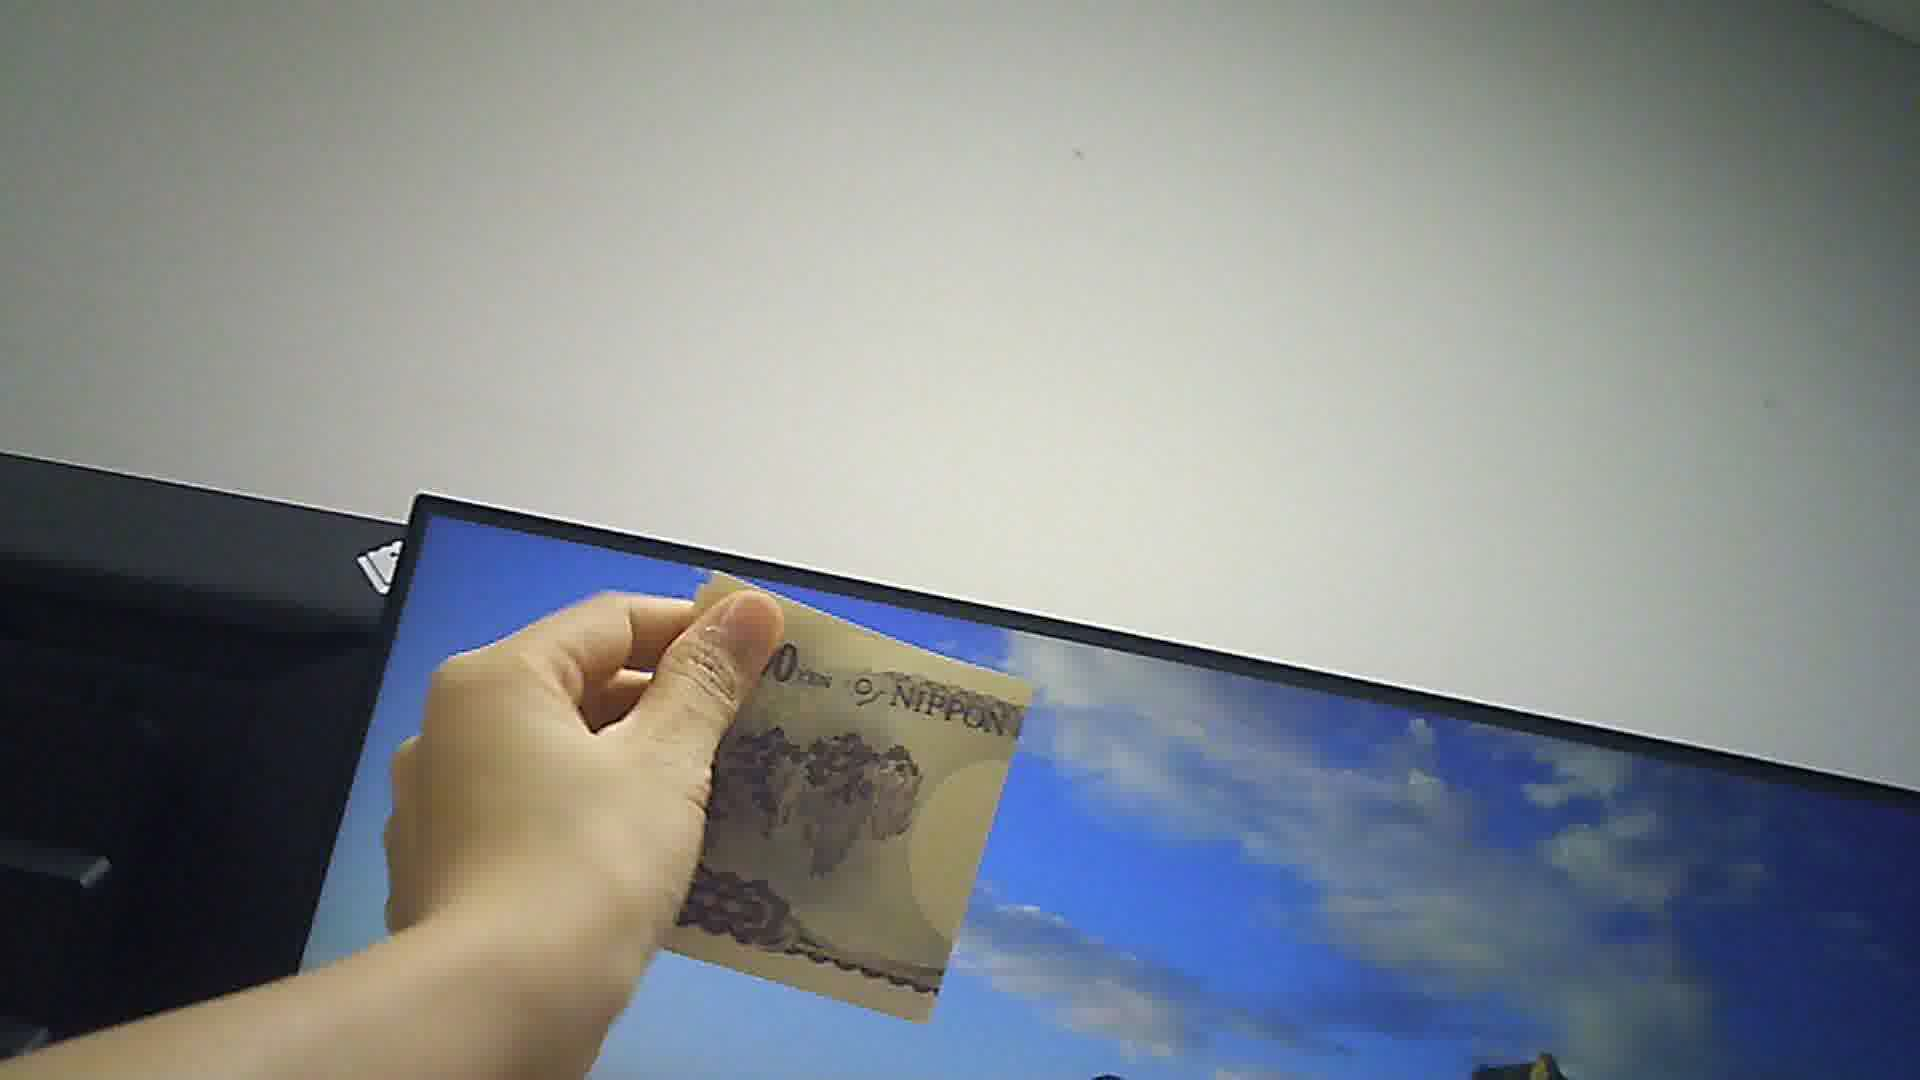5,000 Yen: (607, 545, 1046, 1036)
